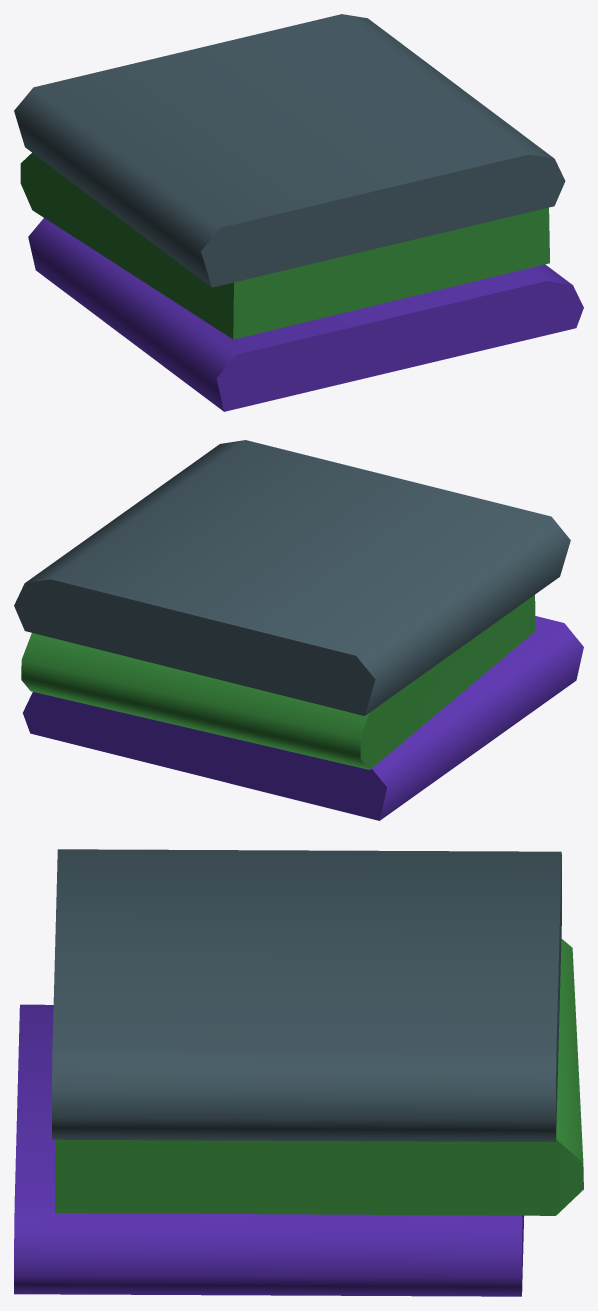
Rendered from shop_014.fbx.
3 renders of one model, top to bottom at view 1: azimuth 30°, elevation 25°; view 2: azimuth 150°, elevation 25°; view 3: azimuth 270°, elevation 25°, orthographic. The views are drawn at different scales.
Visible parts, largest first — view 1: shop_014; view 2: shop_014; view 3: shop_014.
Boxes of the visible parts, x1=… form: shop_014: x1=14, y1=14, x2=583, y2=411; shop_014: x1=14, y1=440, x2=583, y2=820; shop_014: x1=14, y1=849, x2=583, y2=1296.
Size of the model in its own units: 40.66 by 41.04 by 17.96.
